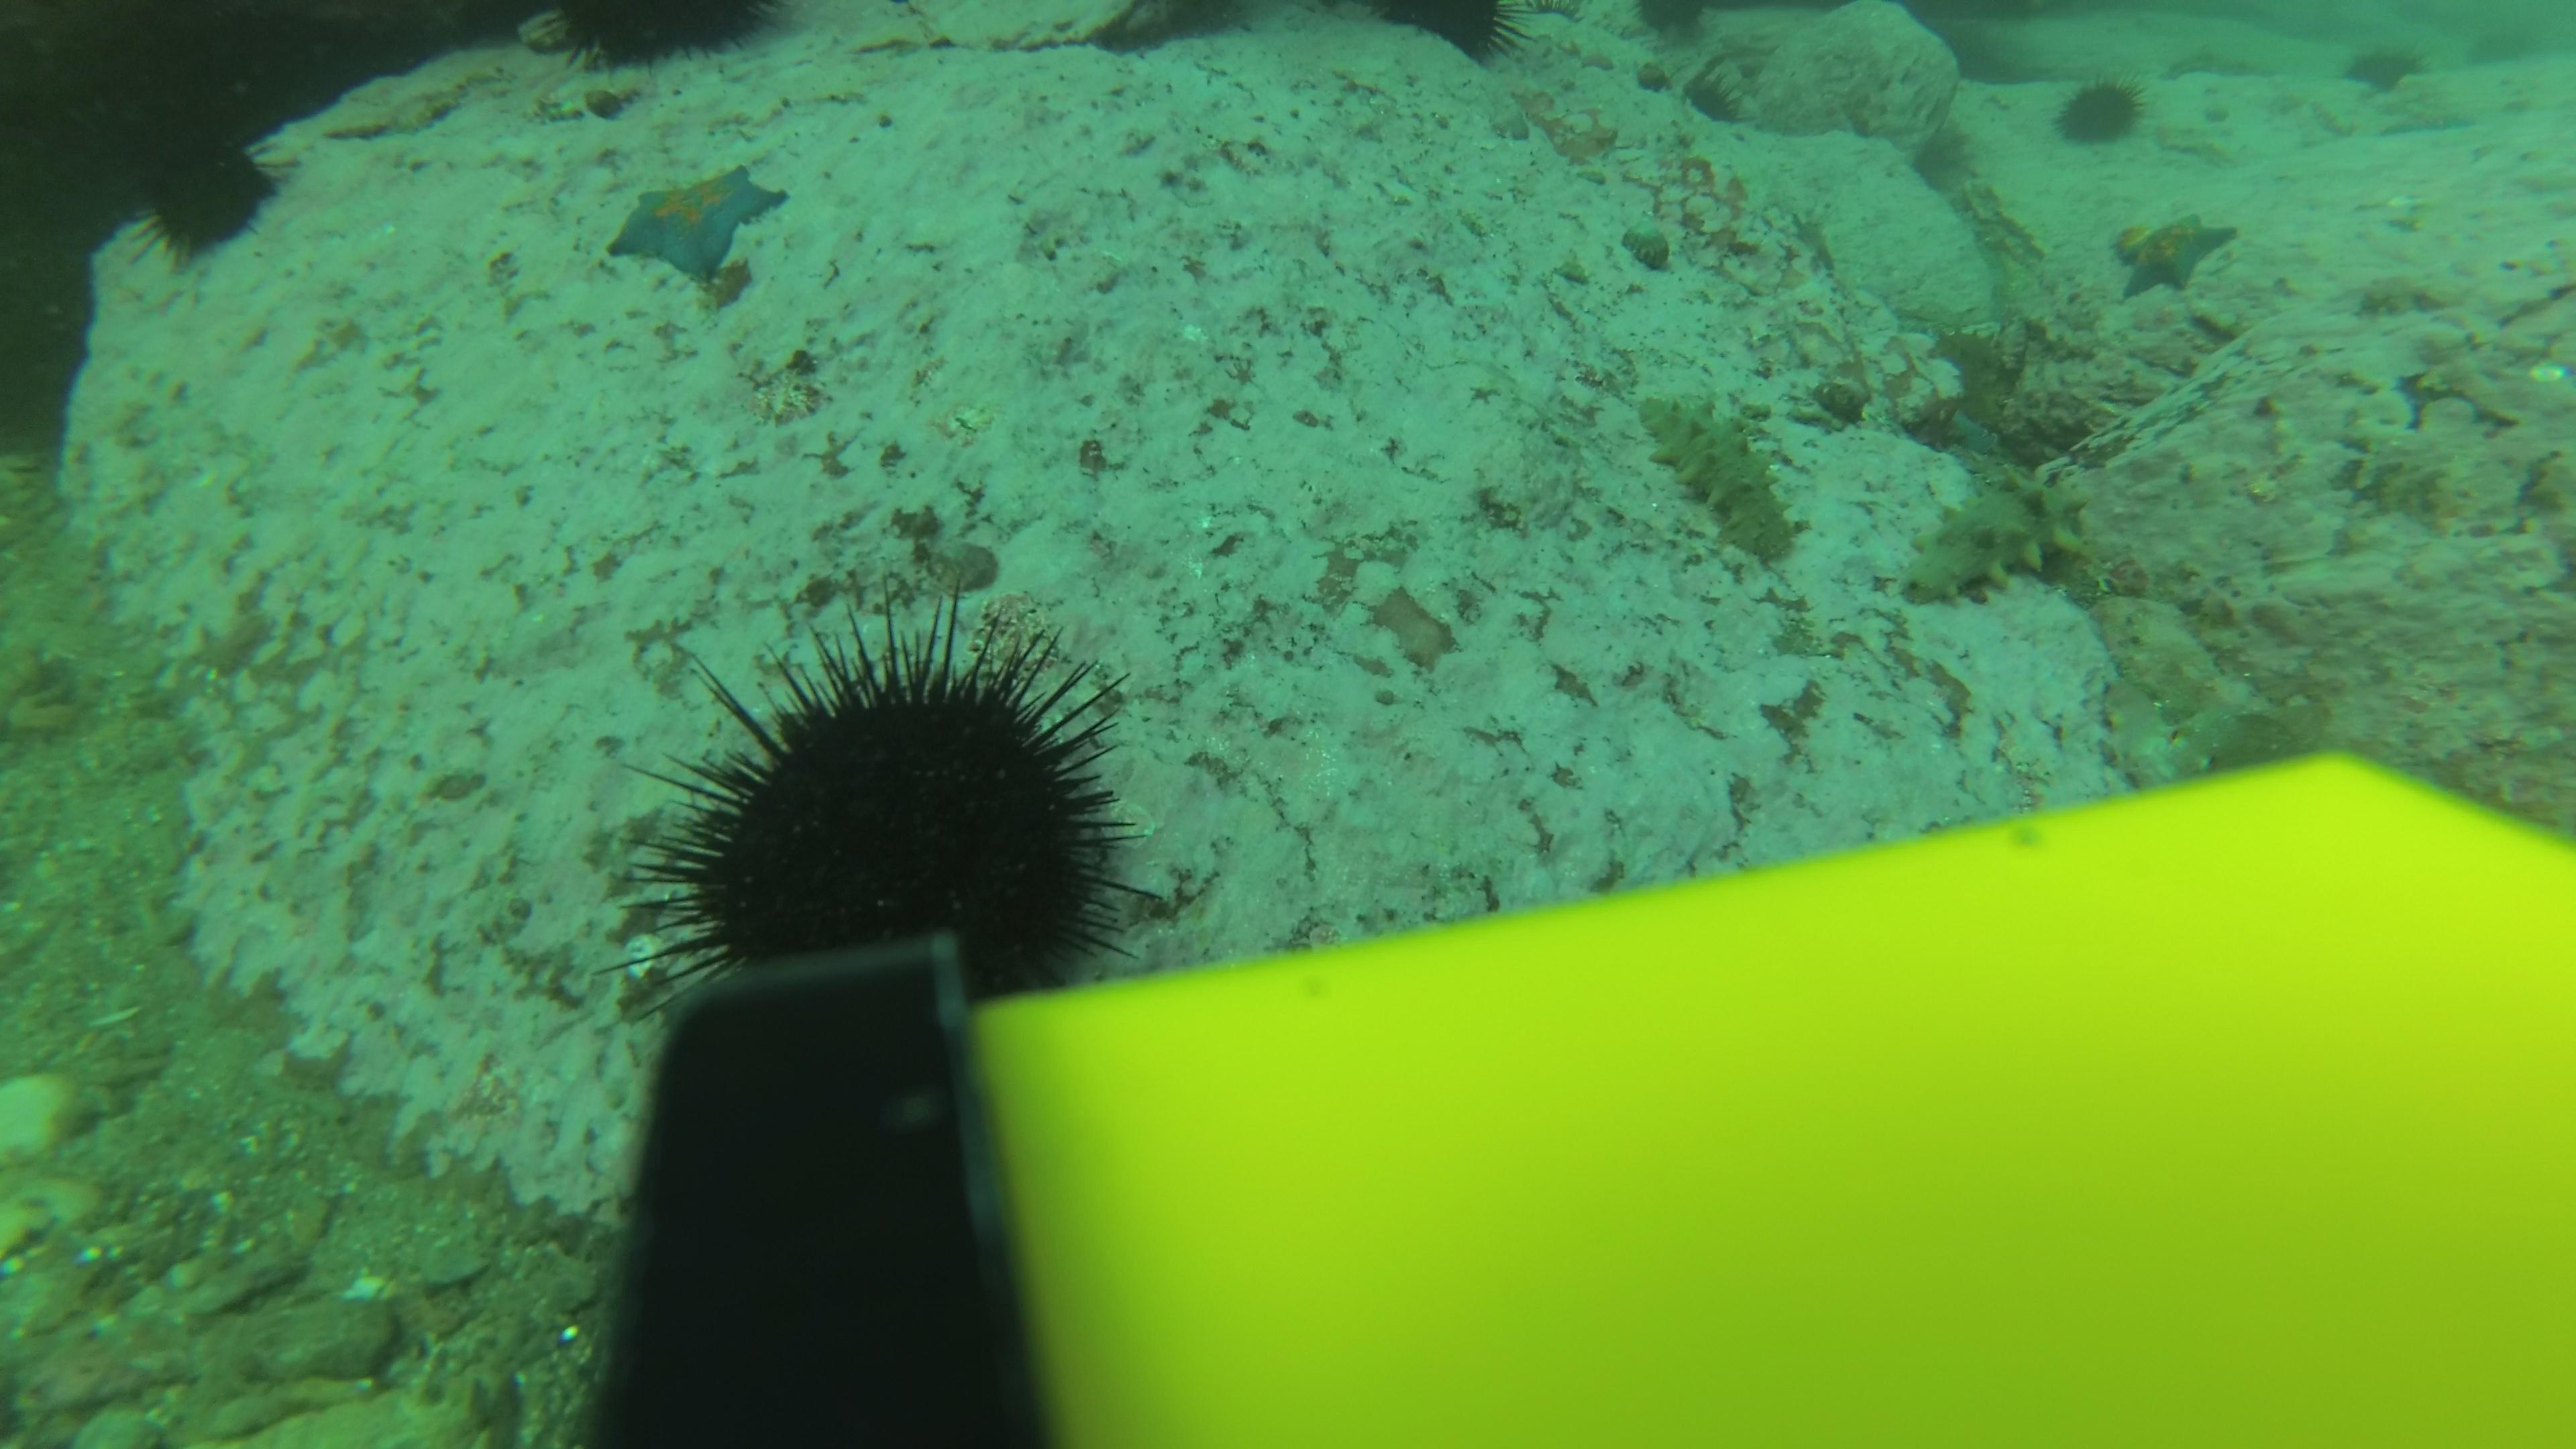urchin: (609, 600, 1148, 980), (540, 0, 786, 60), (1385, 7, 1518, 76), (2058, 76, 2167, 157)
